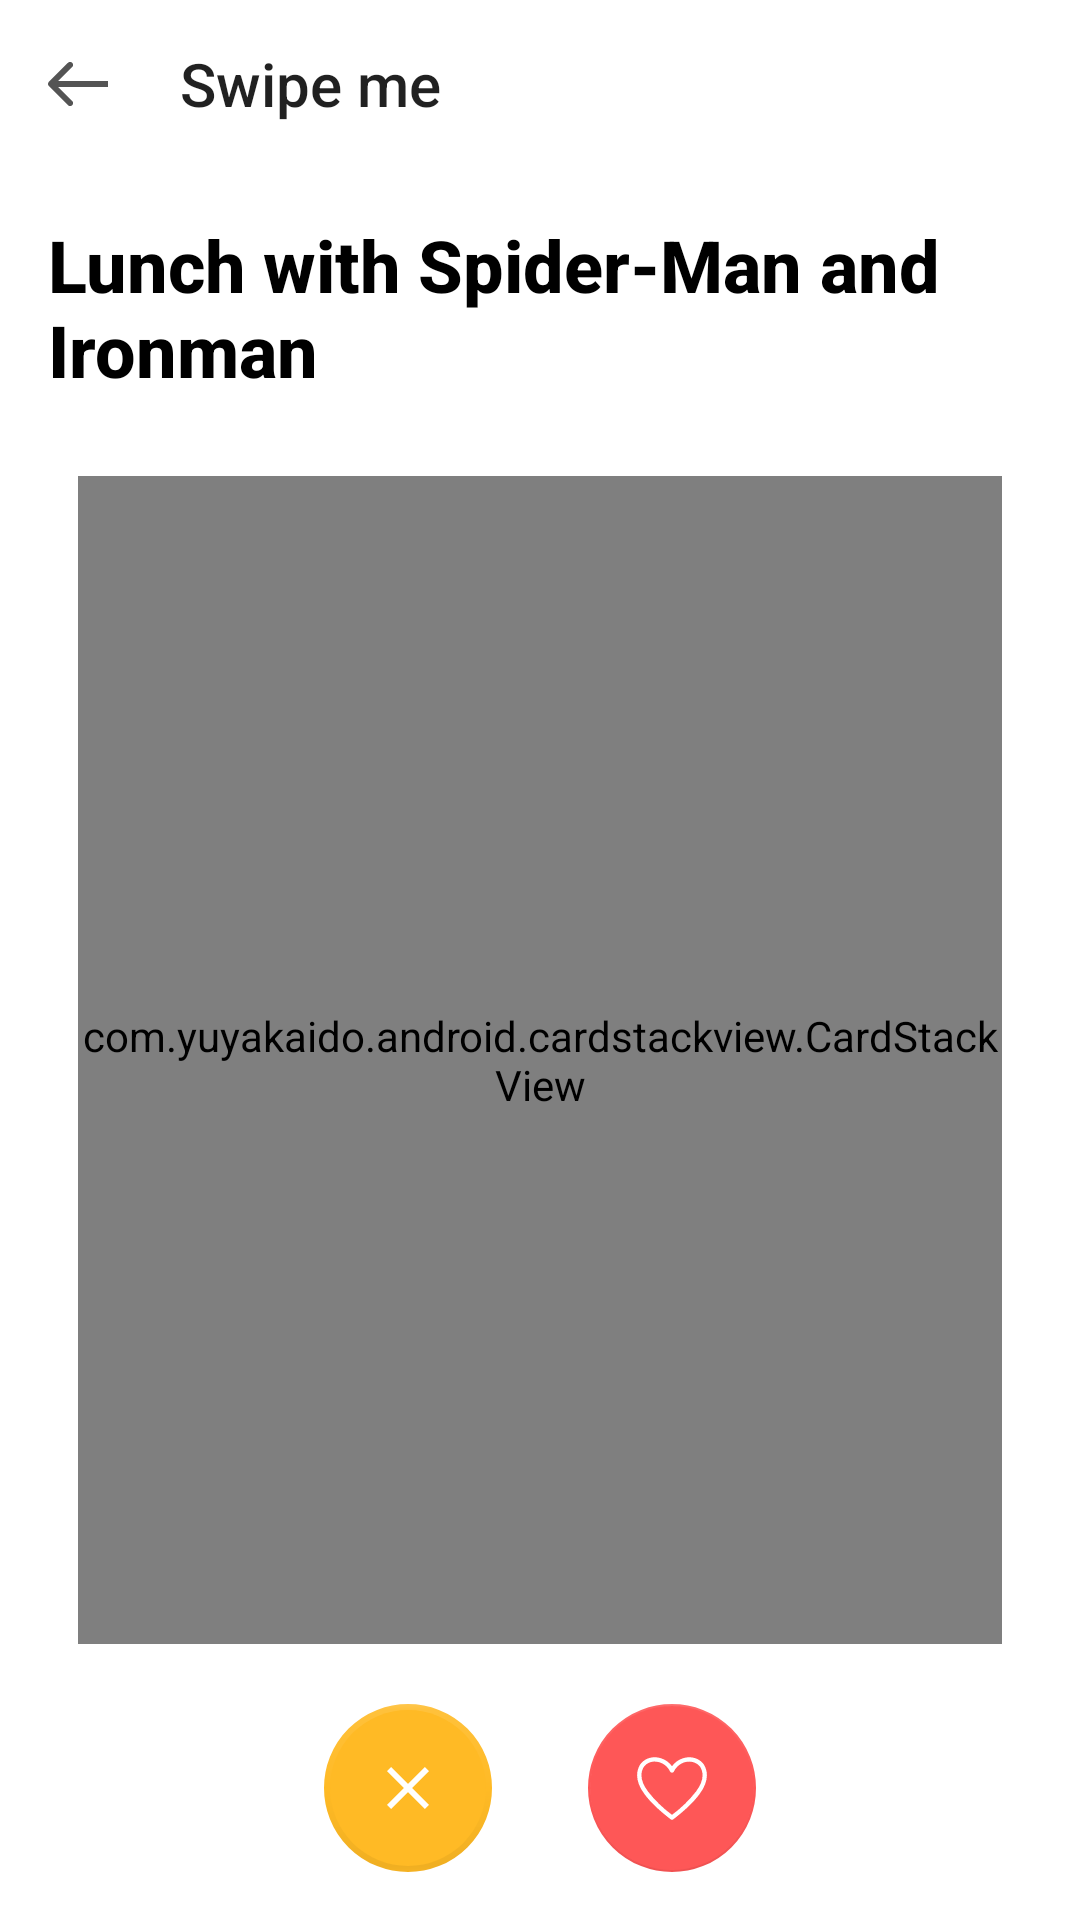

Named icons in this screenshot (1080 x 1920) and their centers, [x,y]:
Like: [672,1788]
Skip: [408,1788]
